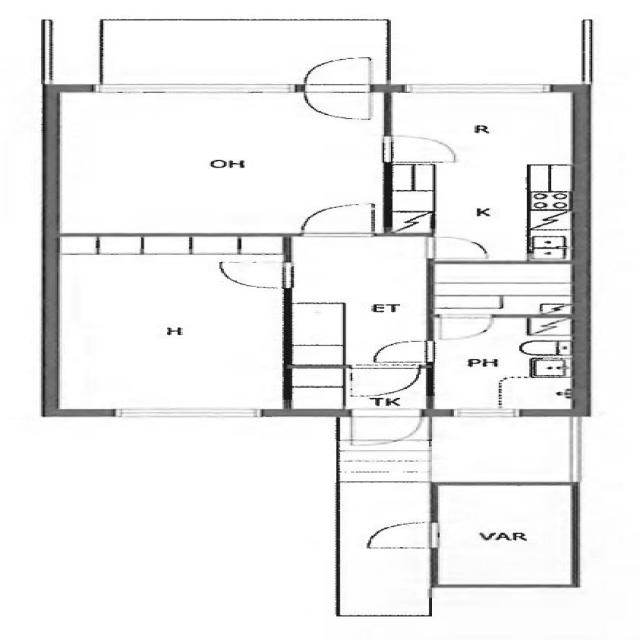door: (423, 262, 585, 318), (293, 52, 379, 124), (285, 198, 385, 238), (339, 409, 425, 449), (355, 519, 443, 554), (378, 132, 468, 165), (210, 259, 298, 292), (344, 364, 427, 397), (418, 234, 496, 262), (428, 312, 500, 342), (364, 338, 440, 366)
window: (76, 81, 300, 100), (95, 405, 272, 423), (392, 81, 559, 96), (439, 407, 532, 422)
zone: (46, 89, 386, 236), (47, 232, 293, 413), (389, 88, 581, 266), (431, 482, 576, 588), (428, 315, 579, 414), (424, 262, 582, 316)
